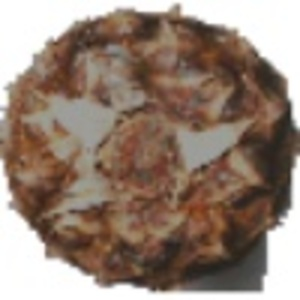abacaxi: (3, 9, 295, 284)
